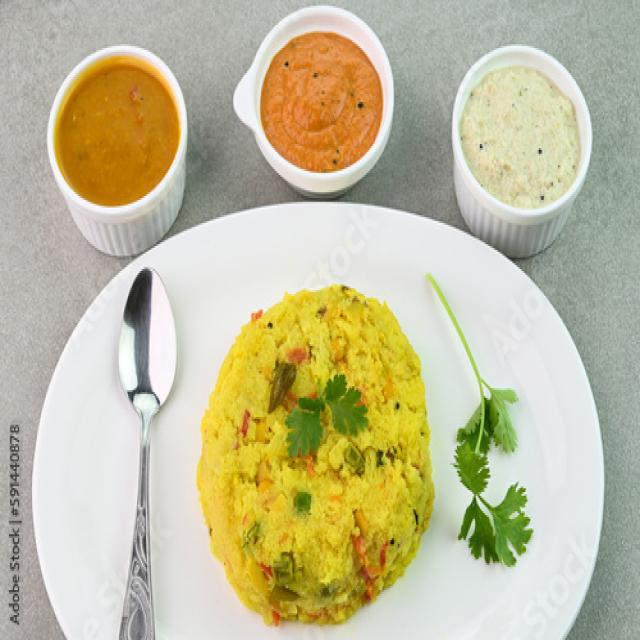UPMA: (196, 288, 433, 623)
